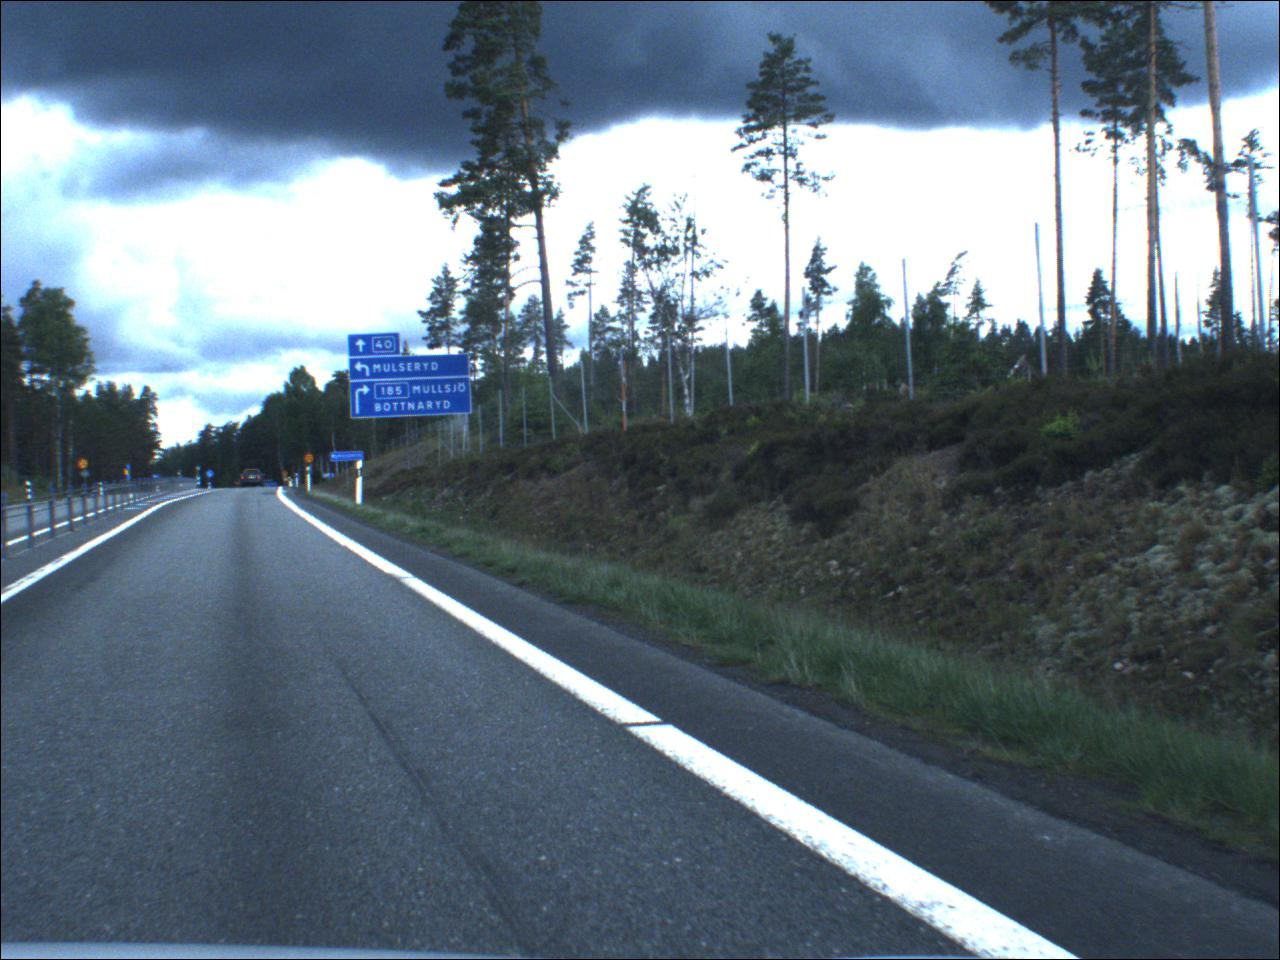70_SIGN: (78, 460, 91, 472), (305, 454, 316, 466)
PASS_RIGHT_SIDE: (208, 470, 218, 481)
